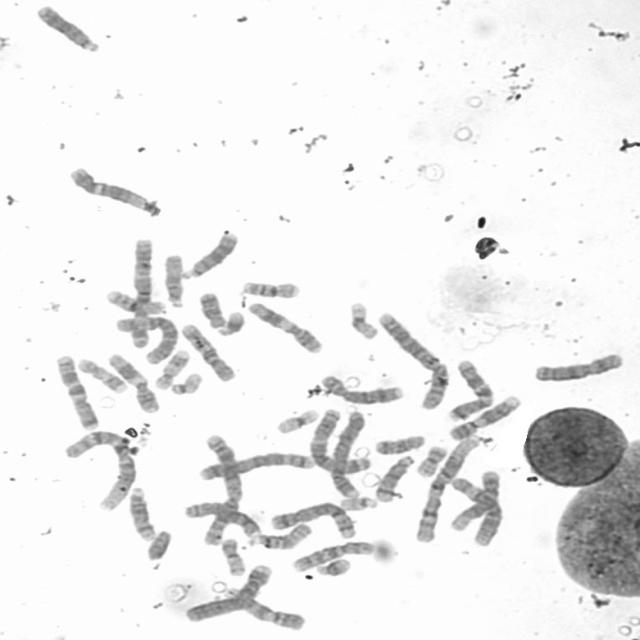A1: (412, 432, 484, 544), (60, 426, 139, 512)
A2: (375, 308, 453, 411), (196, 429, 246, 548)
A3: (306, 405, 374, 474), (126, 234, 156, 349)
B4: (181, 560, 275, 624), (325, 406, 367, 500)
B5: (194, 448, 317, 482), (266, 498, 358, 539)
C10: (176, 319, 238, 384), (288, 536, 378, 573)
C11: (244, 297, 326, 355), (104, 349, 163, 415)
C12: (64, 162, 163, 218), (447, 466, 502, 534)
C6: (446, 471, 505, 548), (112, 312, 180, 365)
C7: (50, 351, 100, 432), (442, 355, 495, 422)
C8: (180, 498, 263, 538), (316, 371, 406, 405)
C9: (220, 582, 308, 632), (446, 391, 524, 441)
D13: (31, 0, 102, 54), (178, 228, 241, 280)
D14: (372, 451, 418, 503), (125, 483, 159, 542)
D15: (244, 519, 314, 551), (160, 251, 187, 309)
E16: (101, 284, 167, 316), (237, 276, 303, 299)
E17: (73, 354, 129, 394), (150, 346, 192, 391)
E18: (371, 430, 427, 456), (195, 288, 229, 329)
F19: (345, 298, 381, 340), (273, 404, 321, 434)
F20: (412, 442, 450, 478), (218, 534, 248, 577)
G21: (311, 554, 354, 578), (214, 307, 247, 337)
G22: (165, 369, 205, 396), (337, 492, 380, 512)
X: (529, 348, 626, 383)
Y: (142, 526, 174, 561)
